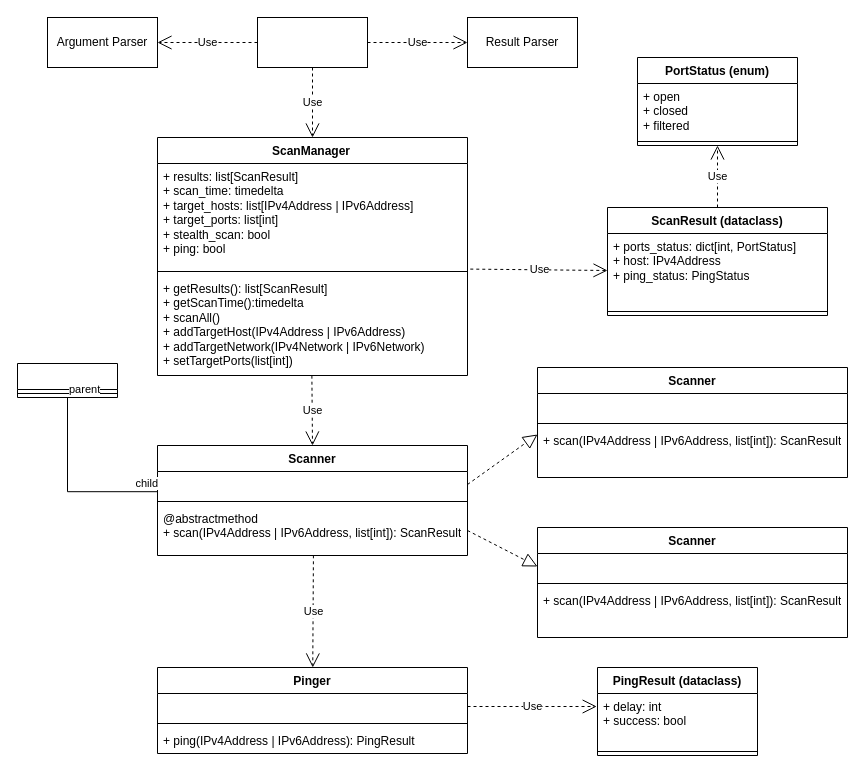
This 865x774 diagram has some shape labels left out. The shapes that lost their labels are listed below. From the top down, each one's centre as x and y in pixels, then its label:
(x=312, y=42): main
(x=67, y=380): ABC
